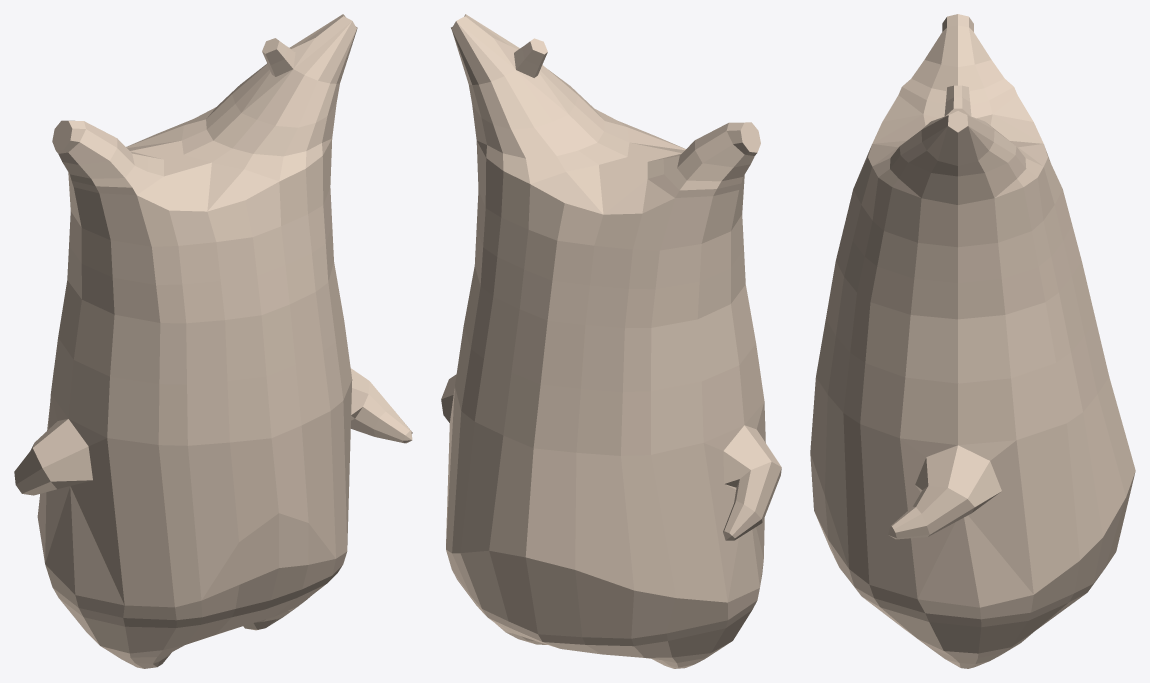
Rendered from frame_0044.obj.
3 renders of one model, left to right at view 1: azimuth 30°, elevation 25°; view 2: azimuth 150°, elevation 25°; view 3: azimuth 270°, elevation 25°, orthographic.
Parts seen in each view (by area): view 1: korok; view 2: korok; view 3: korok.
Boxes of the visible parts, <box> form: korok: <box>14,14,412,668</box>; korok: <box>441,14,781,668</box>; korok: <box>810,14,1135,668</box>.
Bounding box in the file's own units: 1.32 × 2.16 × 1.06.
